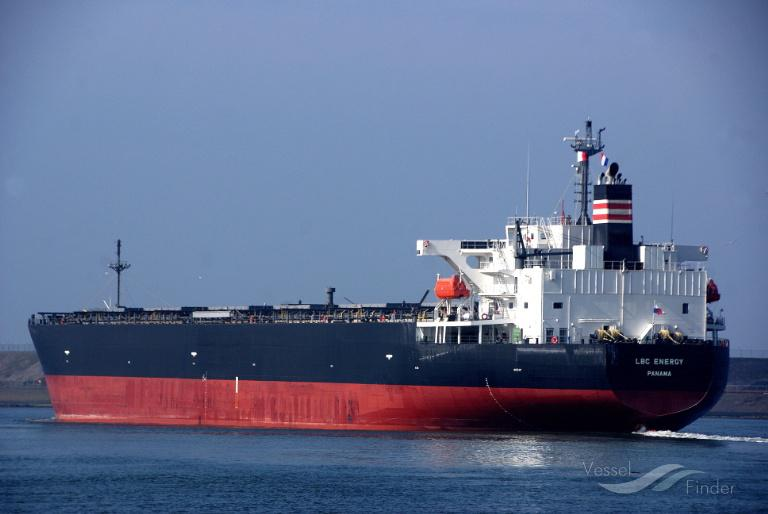OCR: (630, 349, 686, 367)
